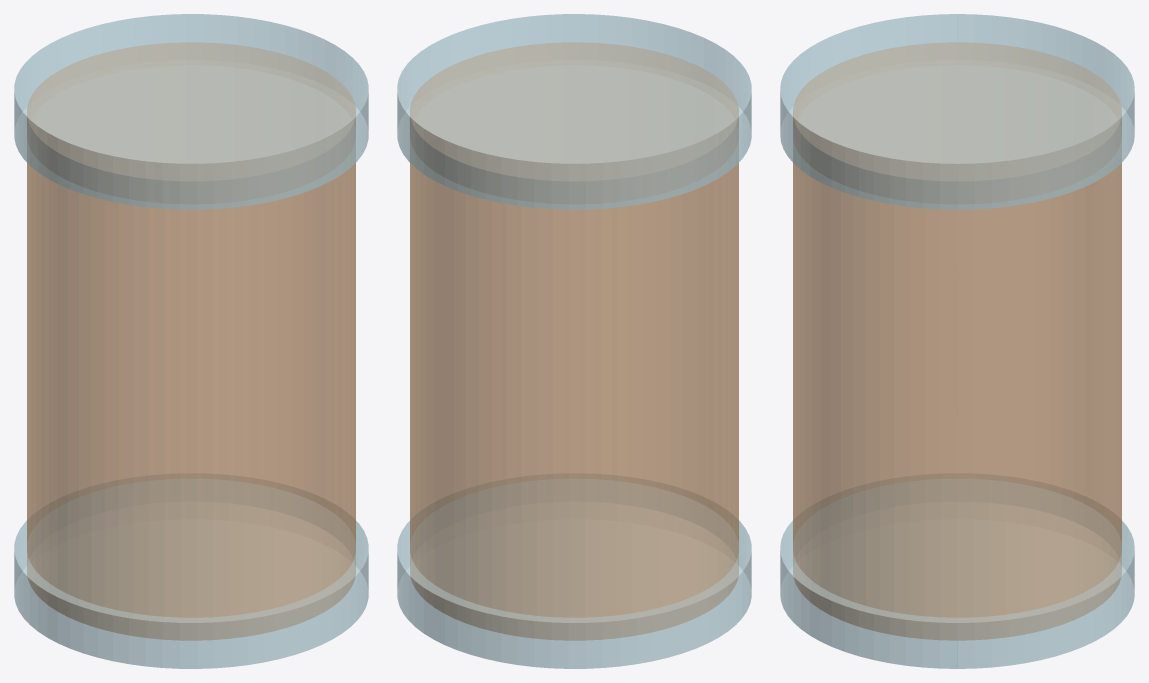
The model's file is GoroxGhost.fbx.
3 views of the same model, side by side, from view 1: azimuth 30°, elevation 25°; view 2: azimuth 150°, elevation 25°; view 3: azimuth 270°, elevation 25° (orthographic).
Visible parts, largest first — view 1: Cylinder, Cylinder.001, Cylinder.002; view 2: Cylinder, Cylinder.001, Cylinder.002; view 3: Cylinder, Cylinder.001, Cylinder.002.
Boxes of the visible parts, x1,y1,x2,y2 form: Cylinder: [27, 42, 355, 640]; Cylinder.001: [14, 14, 368, 209]; Cylinder.002: [14, 474, 368, 668]; Cylinder: [410, 42, 738, 640]; Cylinder.001: [397, 14, 751, 209]; Cylinder.002: [397, 474, 751, 668]; Cylinder: [793, 42, 1121, 640]; Cylinder.001: [780, 14, 1134, 209]; Cylinder.002: [780, 474, 1134, 668].
Size of the model in its own units: 14 by 22 by 14.
